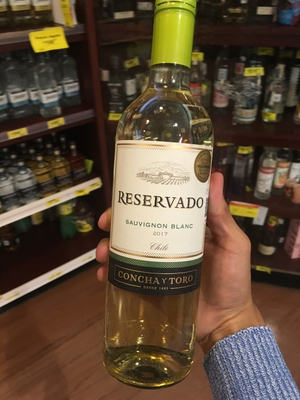reservado sauvignon blanc: (99, 8, 216, 353)
